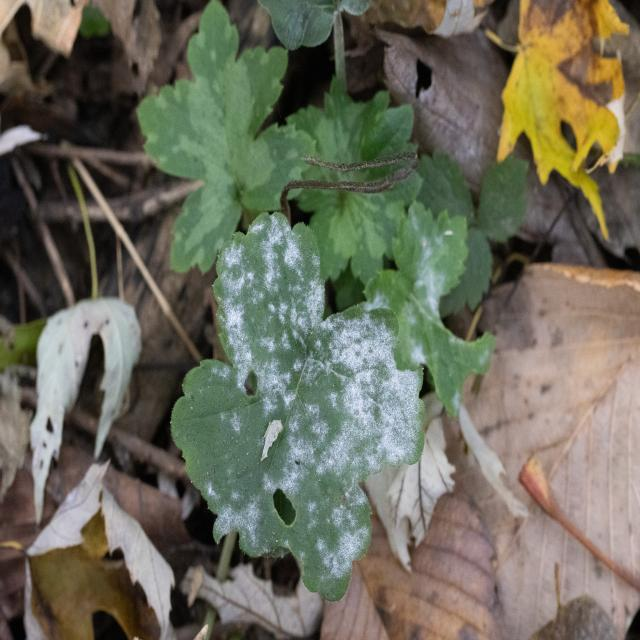powdery_mildew: (172, 213, 424, 599)
